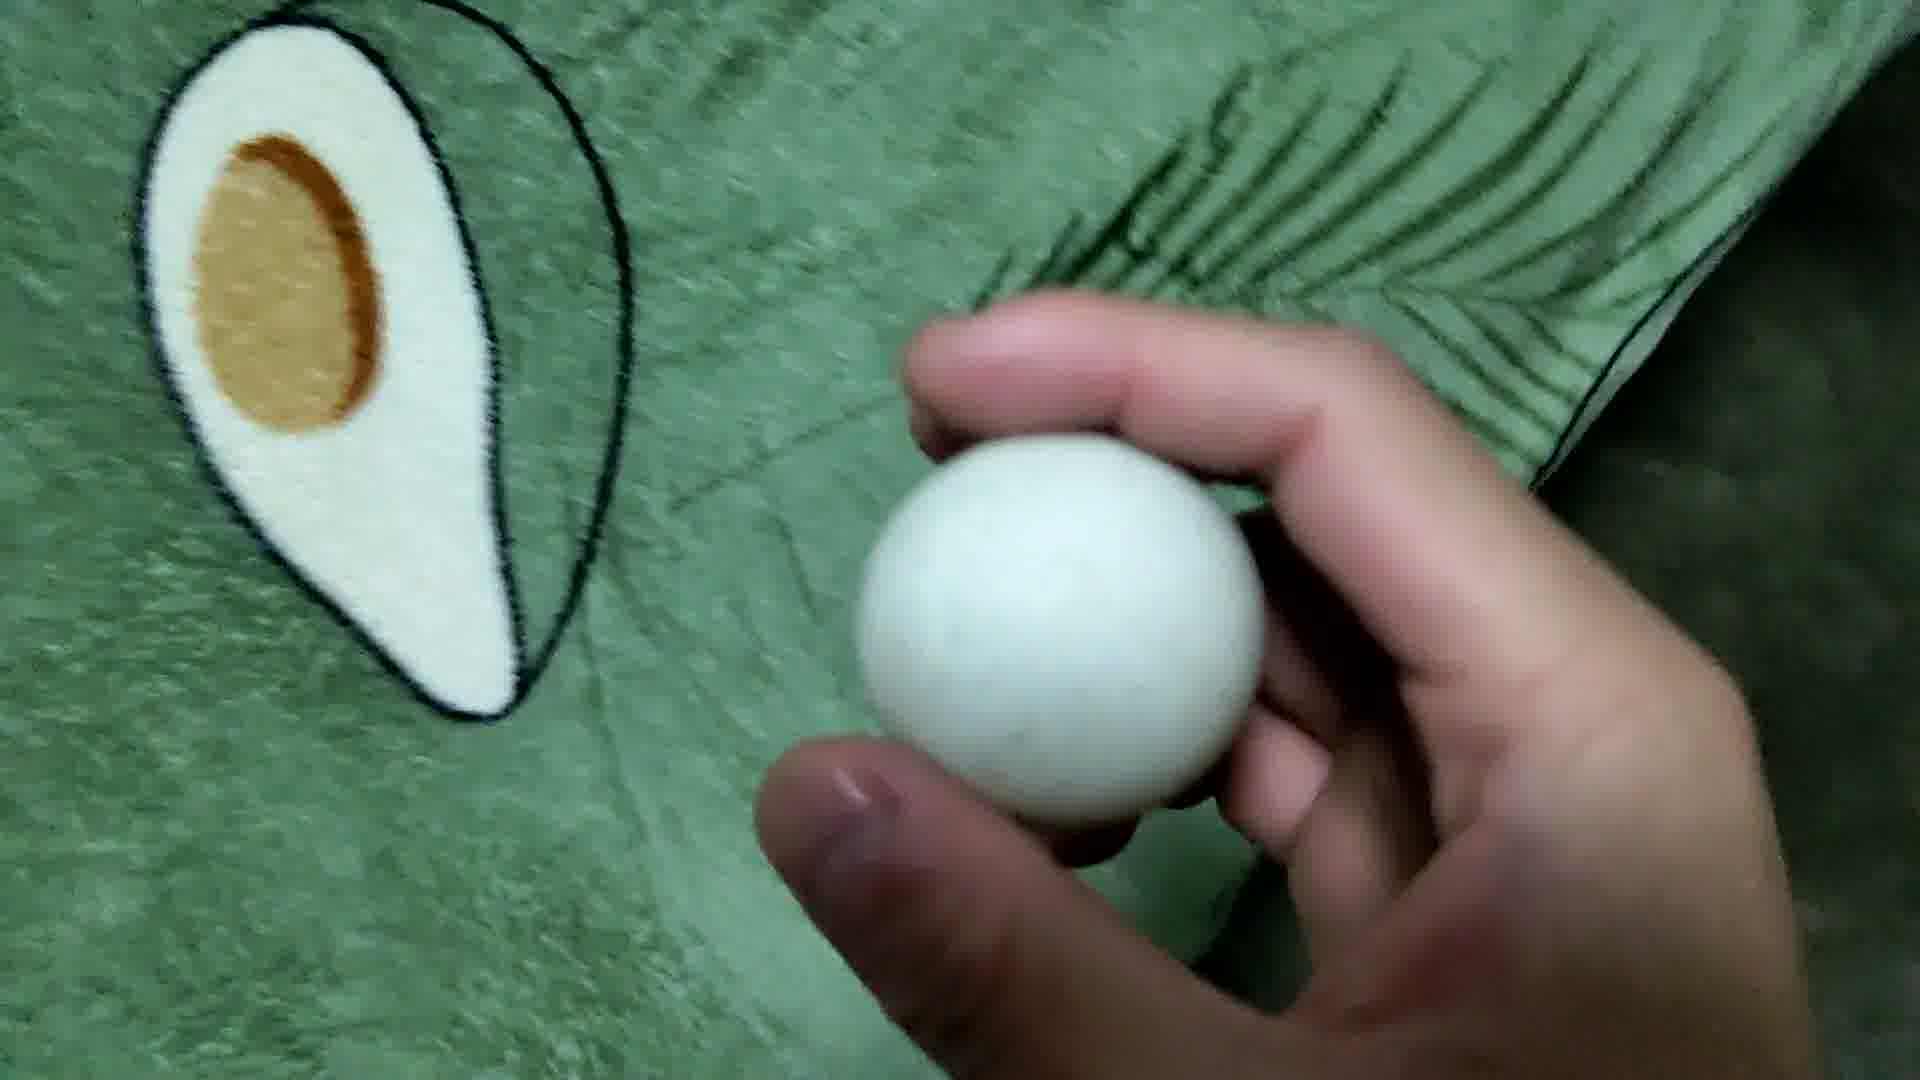Ball: (856, 429, 1265, 822)
